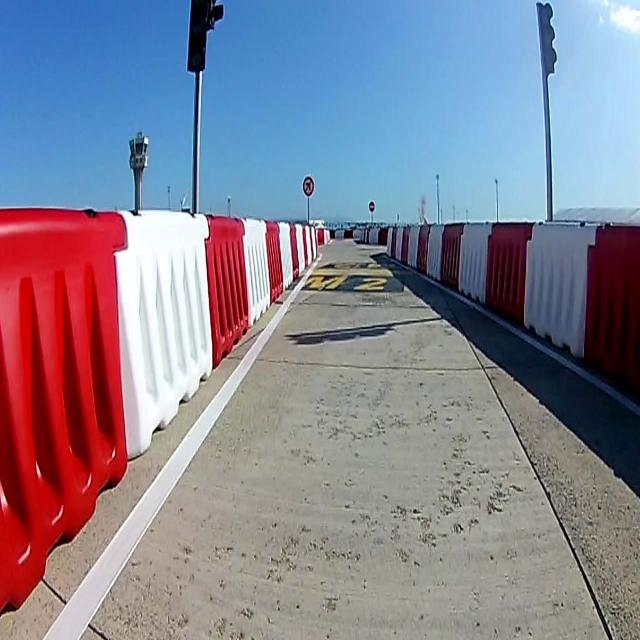girisyok: (368, 201, 374, 212)
soladonulmez: (303, 176, 314, 196)
